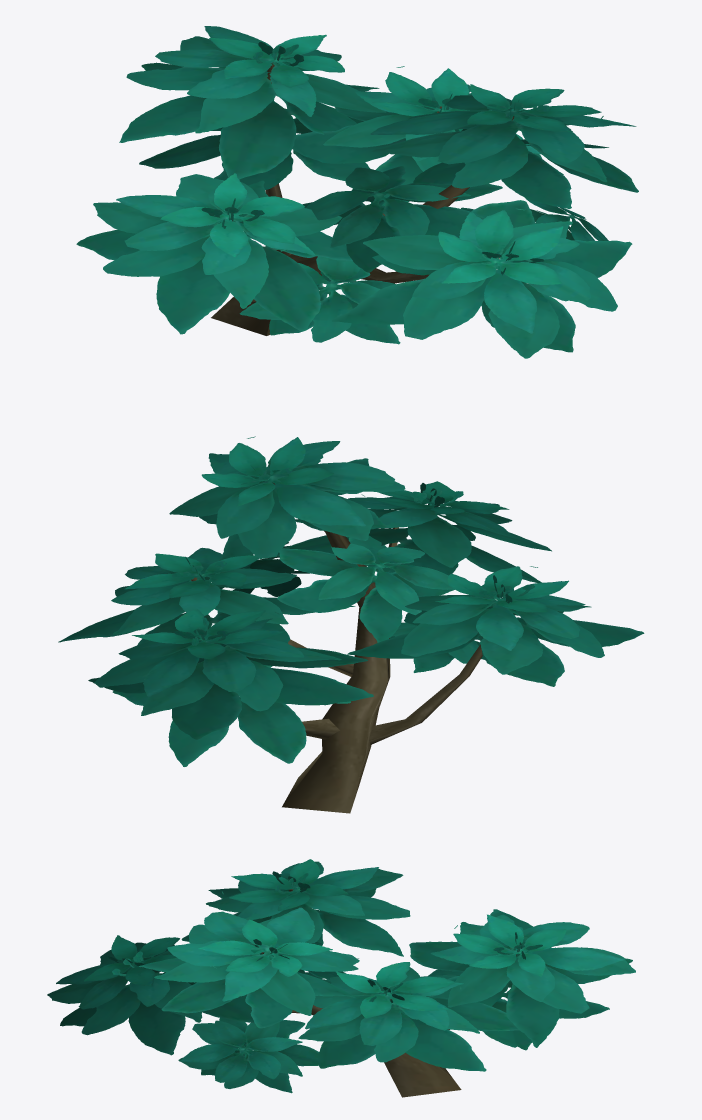
Rendered from map_111_shu_3.fbx.
3 renders of one model, top to bottom at view 1: azimuth 30°, elevation 25°; view 2: azimuth 150°, elevation 25°; view 3: azimuth 270°, elevation 25°, orthographic. The views are drawn at different scales.
Parts seen in each view (by area): view 1: map_111_shu_3; view 2: map_111_shu_3; view 3: map_111_shu_3.
Part boxes in pixels (<box>): map_111_shu_3: <box>76,26,638,358</box>; map_111_shu_3: <box>58,436,644,813</box>; map_111_shu_3: <box>47,859,635,1097</box>.
Bounding box in the file's own units: 1.21 × 0.5243 × 1.56.
